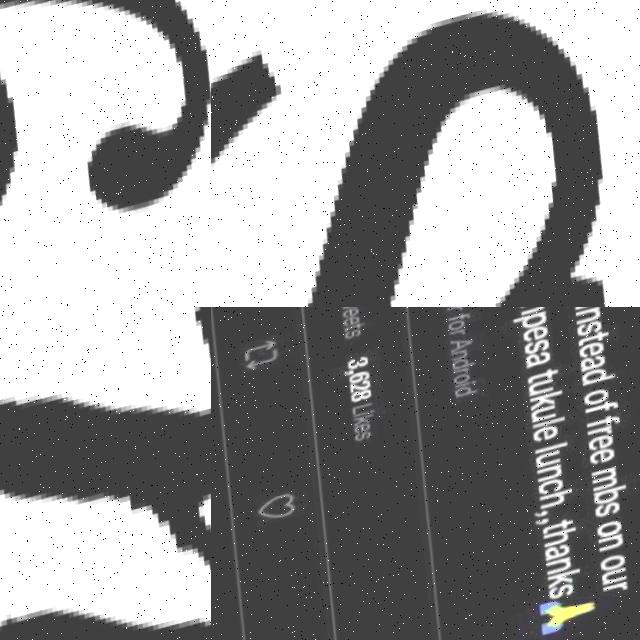2: (353, 375, 377, 389)
4: (354, 392, 379, 408)
6: (0, 0, 211, 307)
N: (0, 307, 211, 640)
S: (211, 0, 640, 307)
